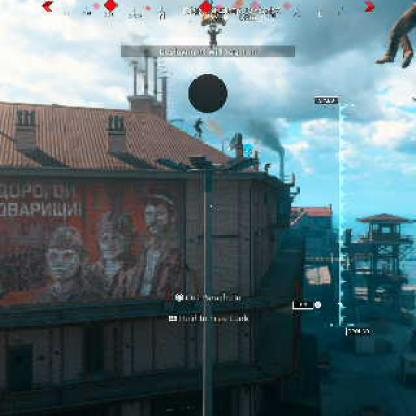enemy: (379, 2, 416, 69), (205, 28, 220, 50), (194, 117, 204, 138), (264, 161, 272, 172)
